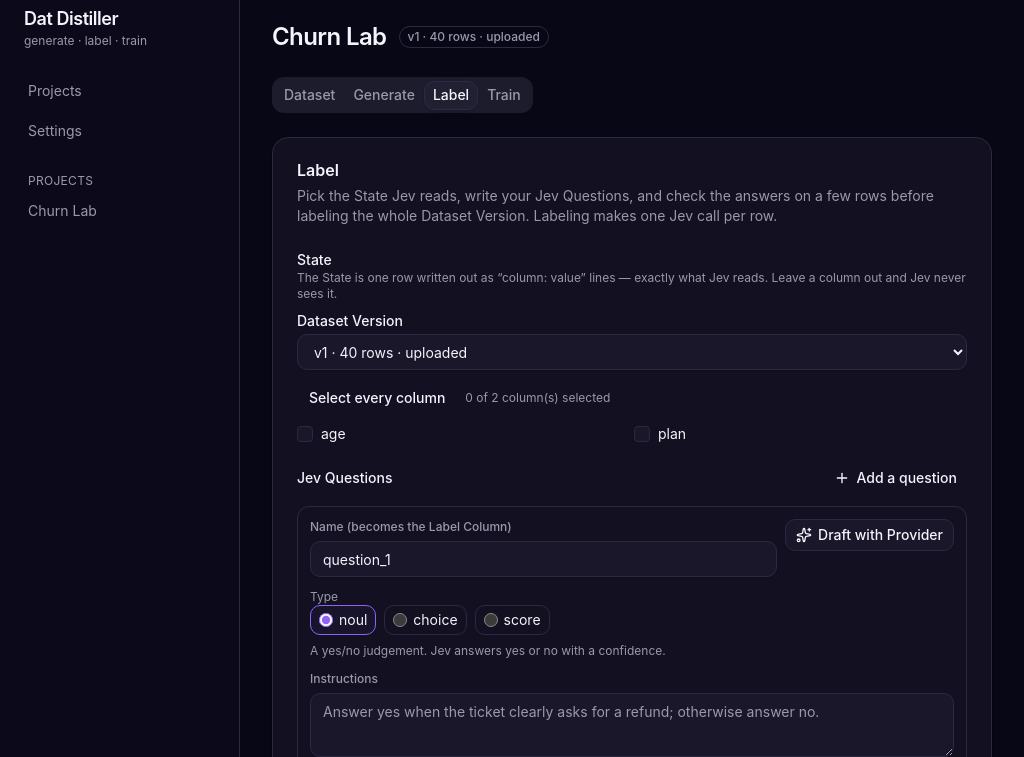
Test: Label step — the preview gate and the run › a failed preview does not unlock the run
The width and height of the screenshot is (1024, 757).
Replace the text in the field labelled "Name (becomes the Label Column)" with "is_churn" at (544, 559), box [310,541,777,577]
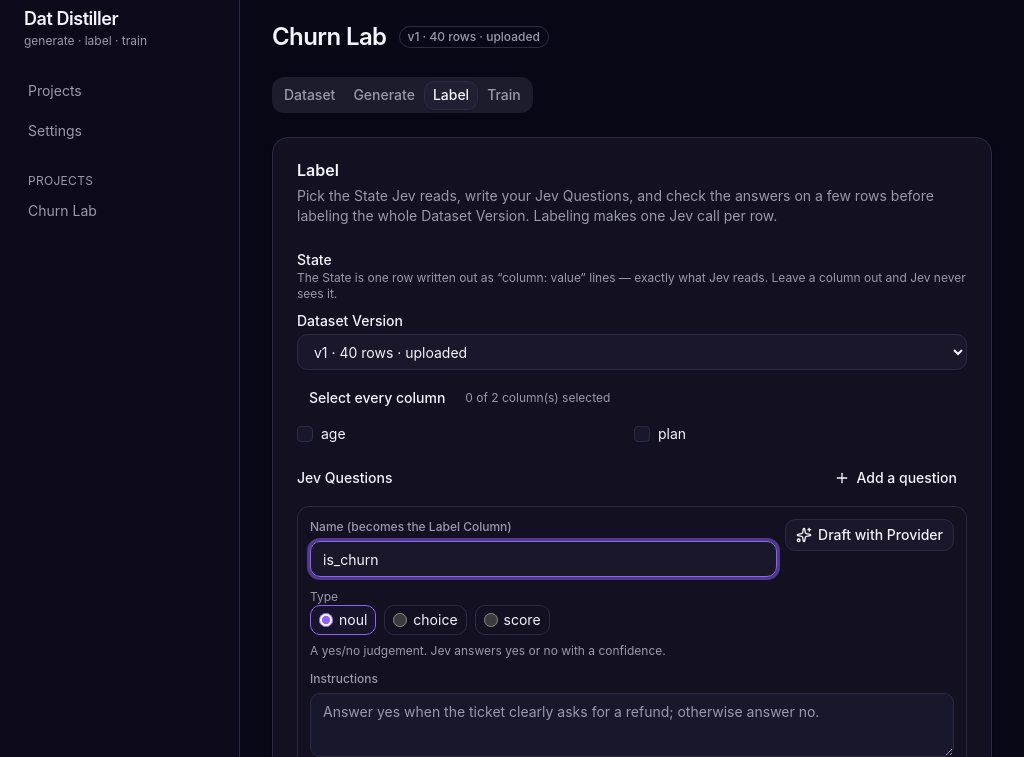
Type "Answer yes when the customer cancelled within 30 days." into the text box labelled "Instructions".
click(632, 725); type("Answer yes when the customer cancelled within 30 days.")  # box [310,693,954,756]
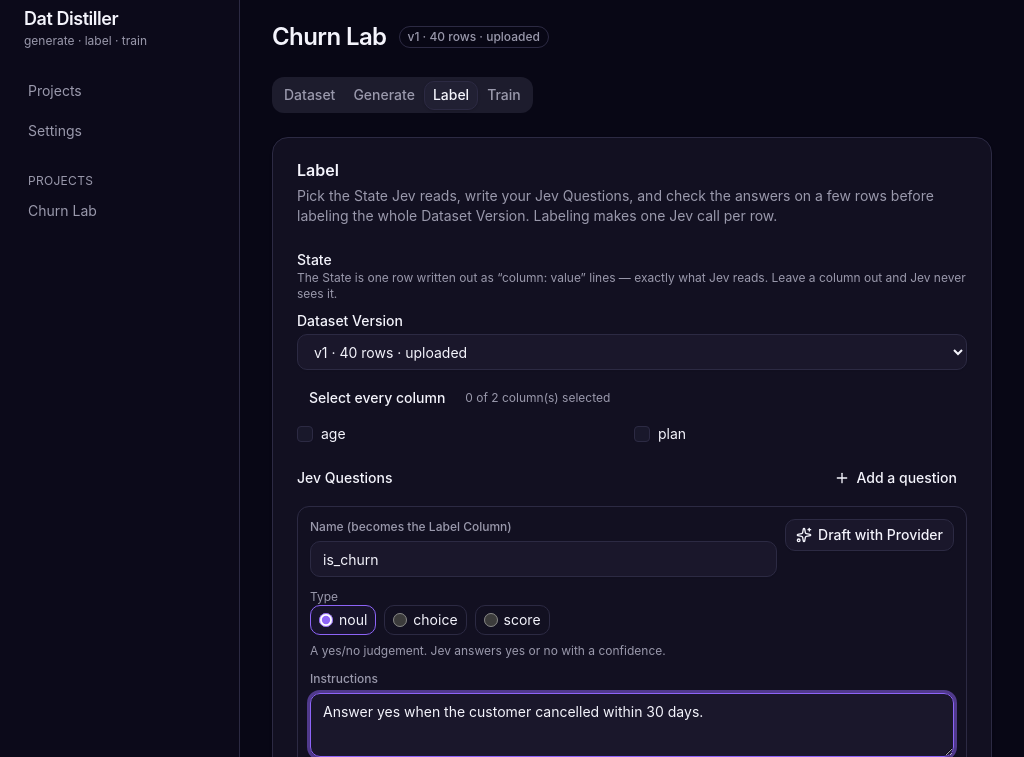
Click the button "Select every column".
click(377, 398)  # box [297,382,457,414]
(page scrolled)
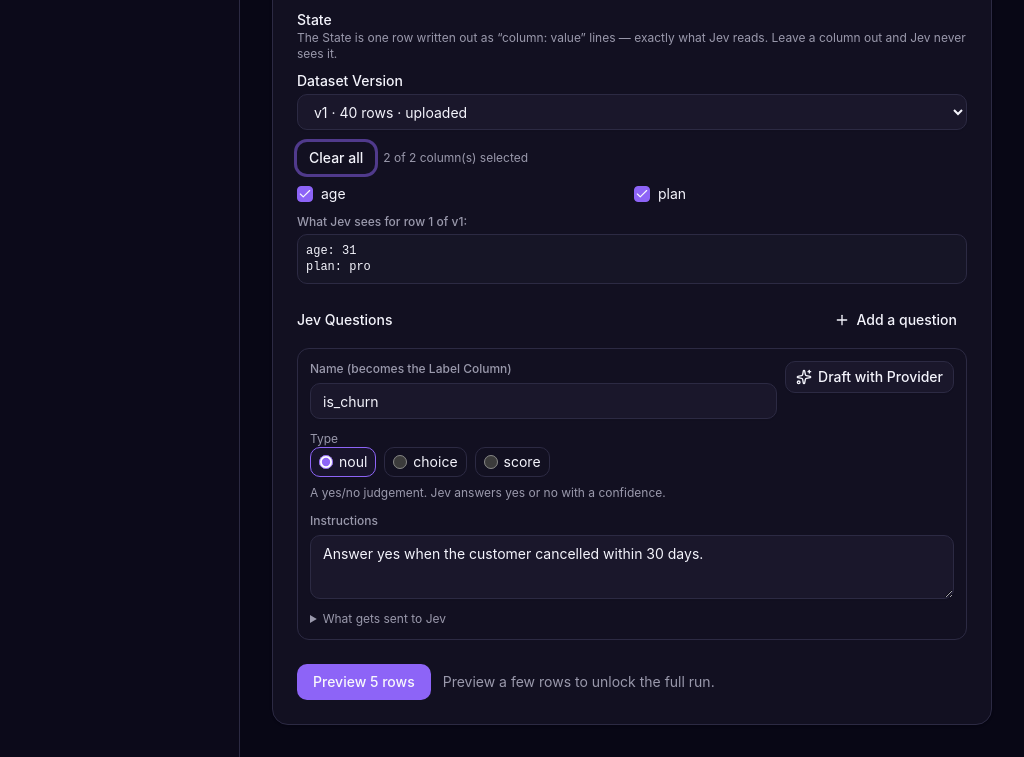
Click the button "Preview 5 rows".
click(364, 682)  # box [297,664,431,700]
(page scrolled)
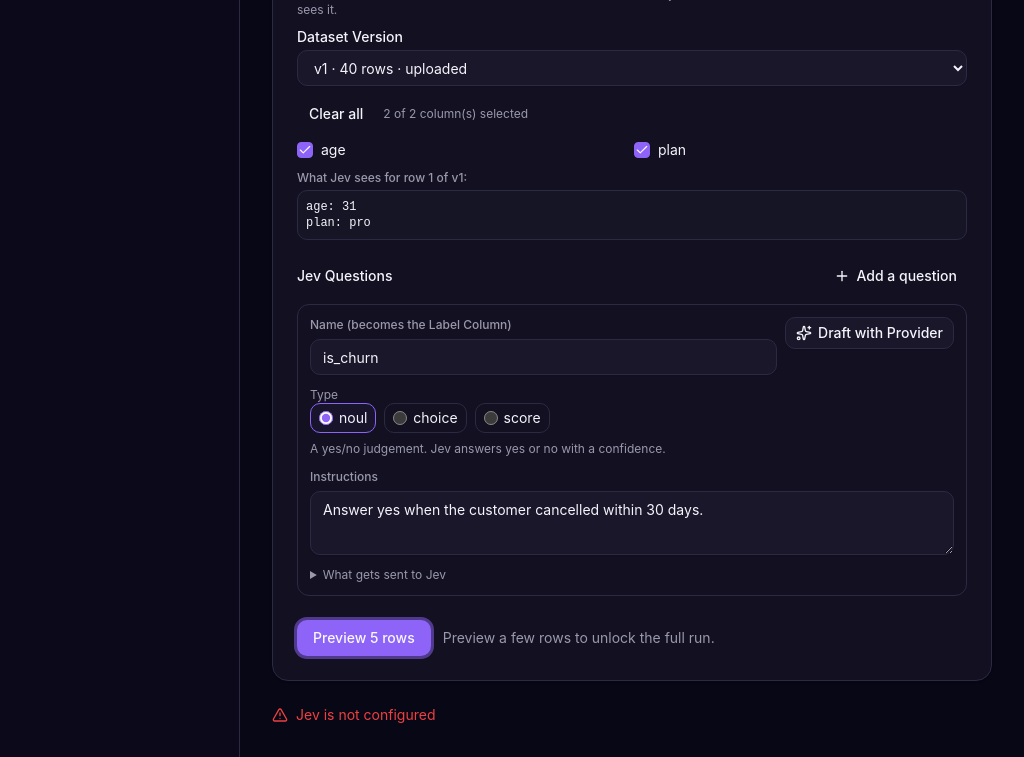
Result: the message reads "Jev is not configured" at [296,706,436,723]
